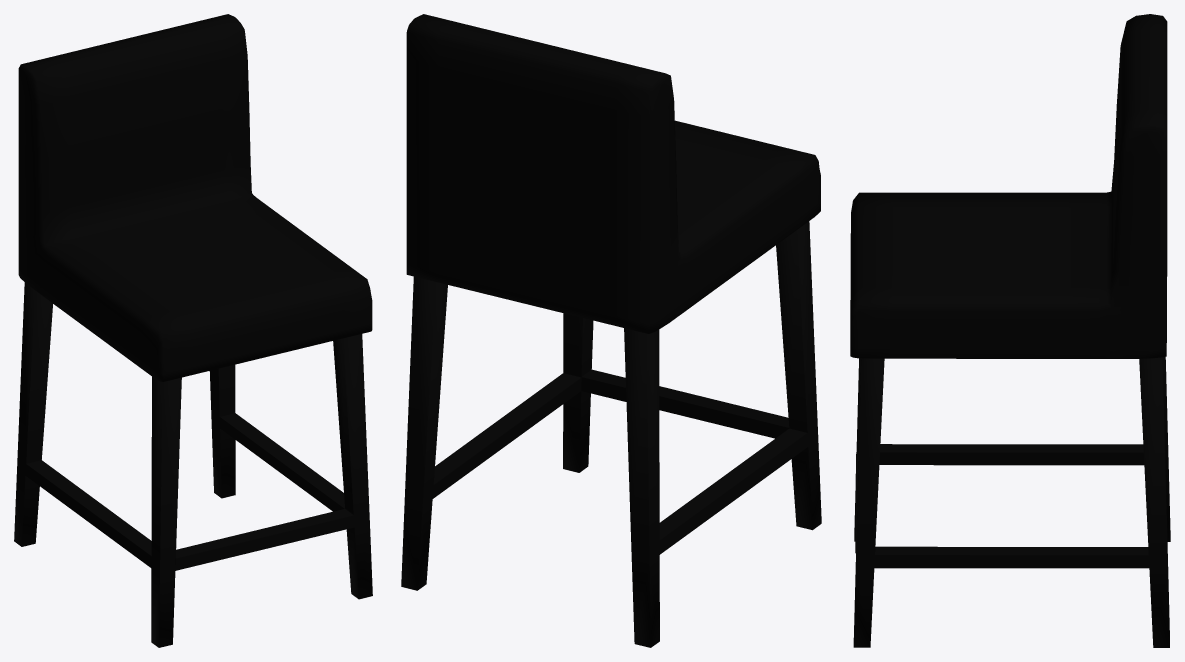
File: henriksdal.glb
3 views of the same model, side by side, from view 1: azimuth 30°, elevation 25°; view 2: azimuth 150°, elevation 25°; view 3: azimuth 270°, elevation 25° (orthographic). The views are drawn at different scales.
Parts seen in each view (by area): view 1: IKEA-Henriksdal_Bar_Stool-3D; view 2: IKEA-Henriksdal_Bar_Stool-3D; view 3: IKEA-Henriksdal_Bar_Stool-3D.
Boxes of the visible parts, left/top/right/bottom form: IKEA-Henriksdal_Bar_Stool-3D: left=14, top=14, right=372, bottom=647; IKEA-Henriksdal_Bar_Stool-3D: left=401, top=14, right=821, bottom=647; IKEA-Henriksdal_Bar_Stool-3D: left=850, top=14, right=1170, bottom=647.
Bounding box in the file's own units: 0.42 × 0.9 × 0.5.
1 material, 1 textured.
